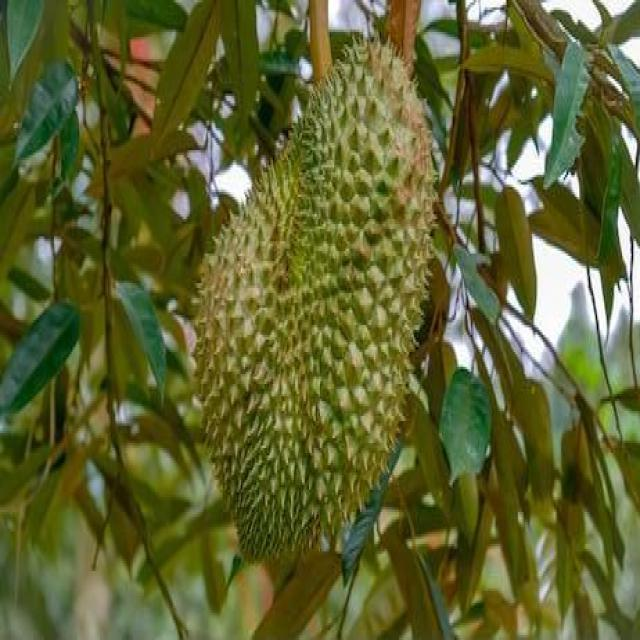immature: (189, 26, 437, 568)
